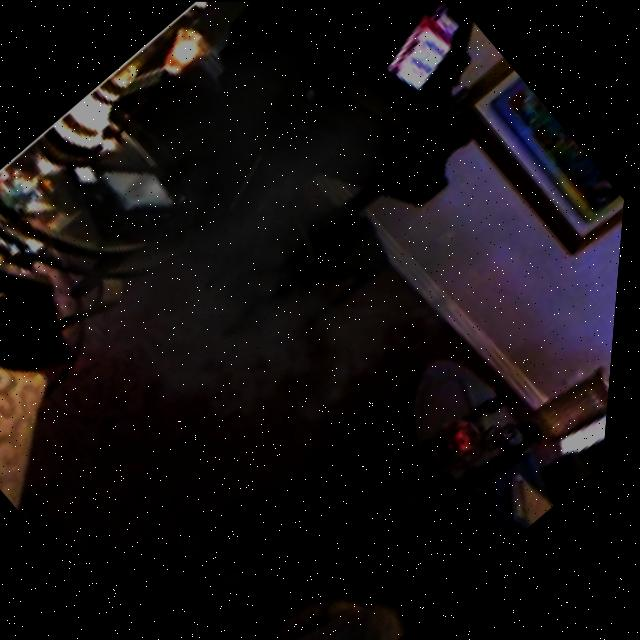Smoke: (0, 1, 557, 546)
